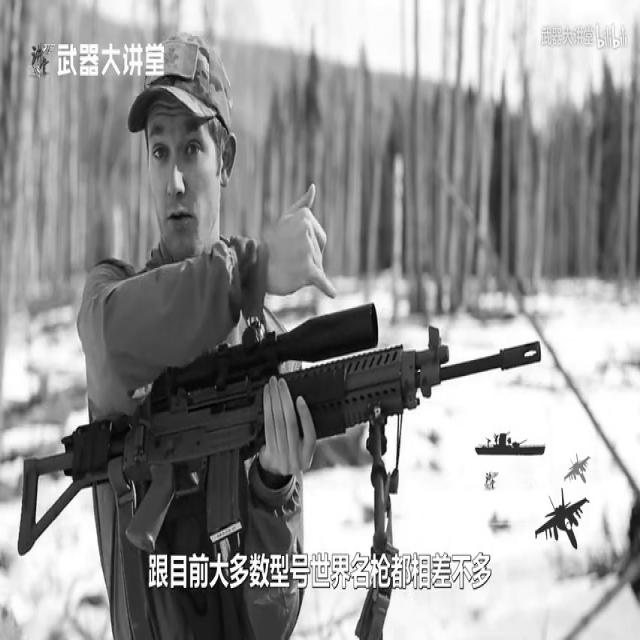Sniper: (0, 239, 556, 640)
